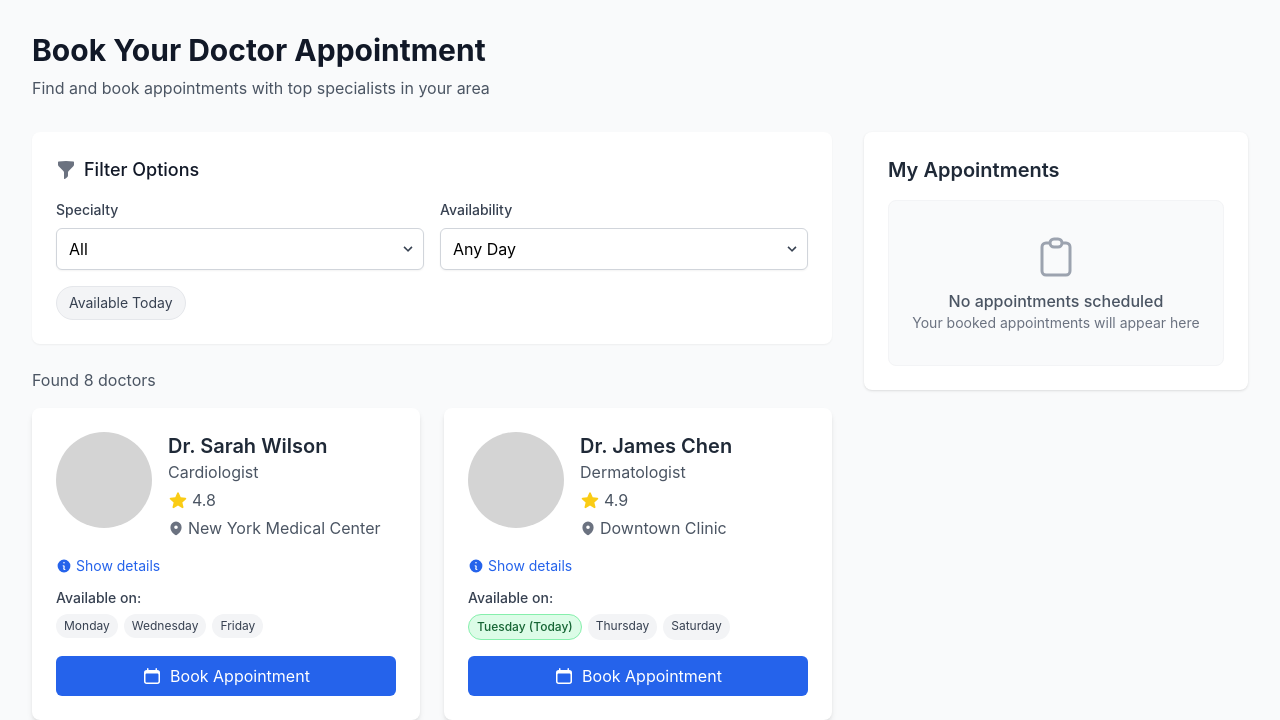
App › shows no results message when no doctors match filters
Select "Cardiologist" in the dropdown named "filter by medical specialty": (240, 249) [56,228,424,270]
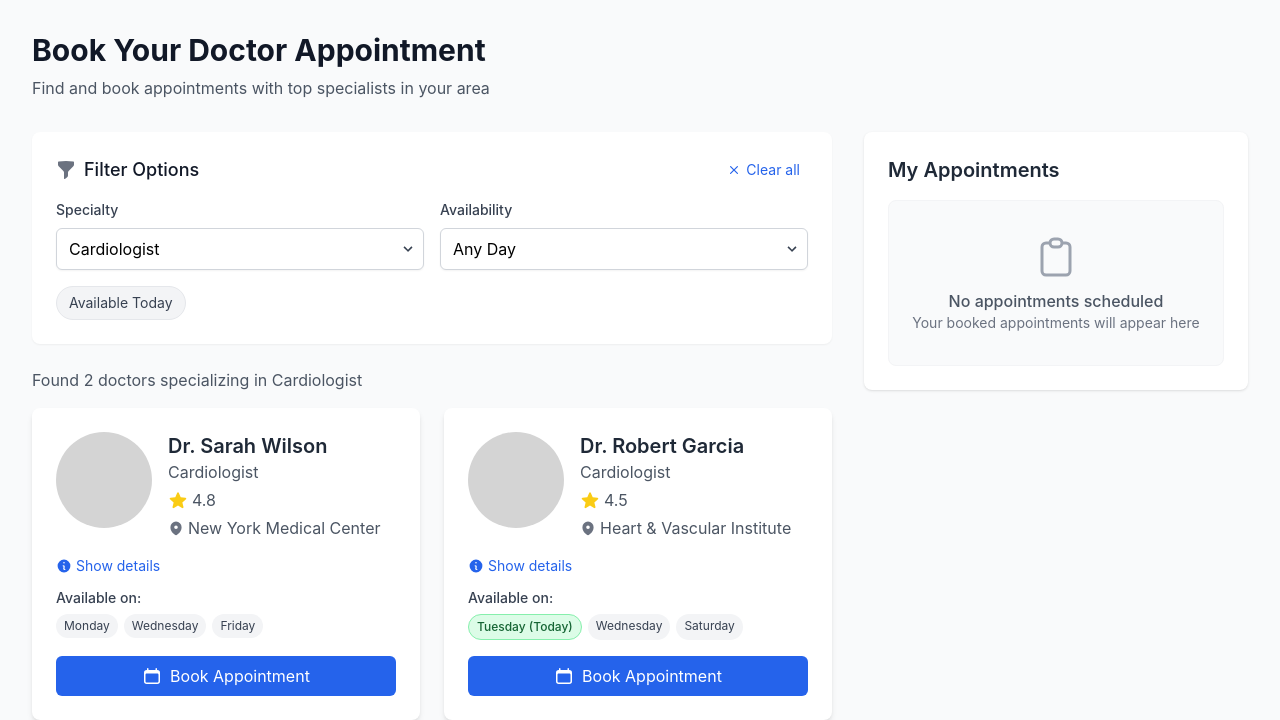
Select "Sunday" in the dropdown named "filter by availability": (624, 249) [440,228,808,270]
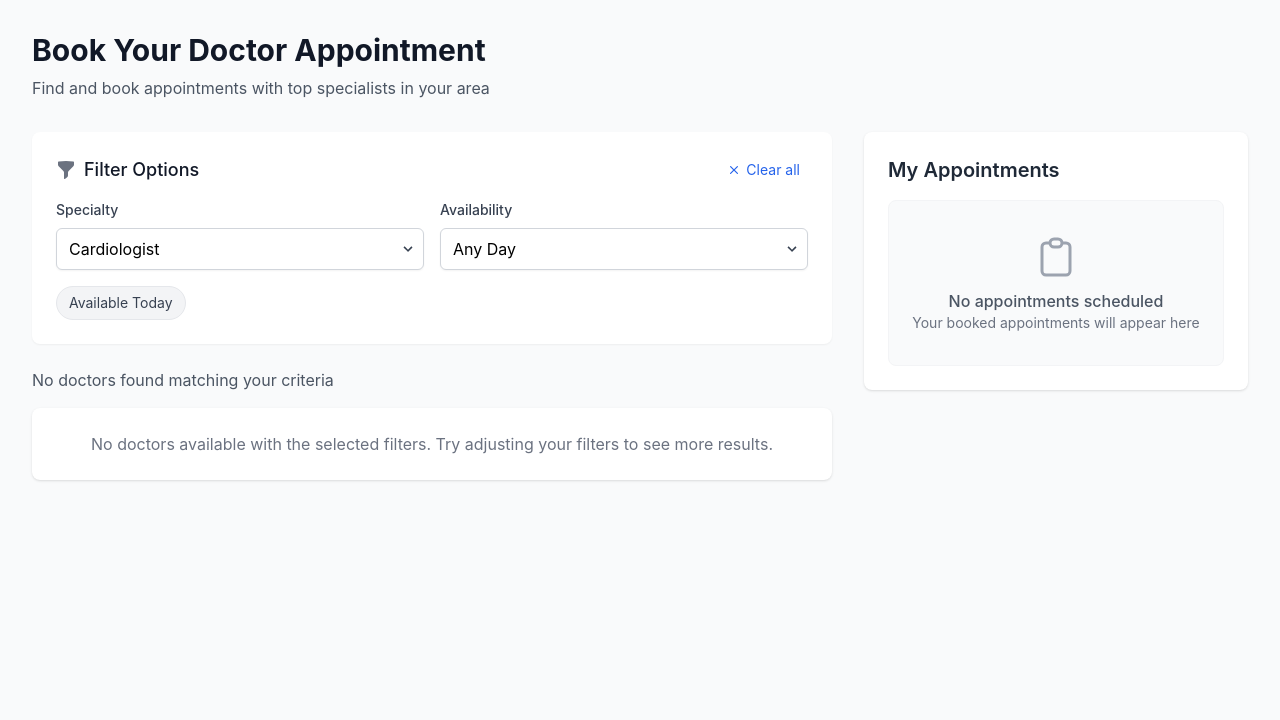
expect the text "No doctors available" is shown: met, box [91,434,773,454]
